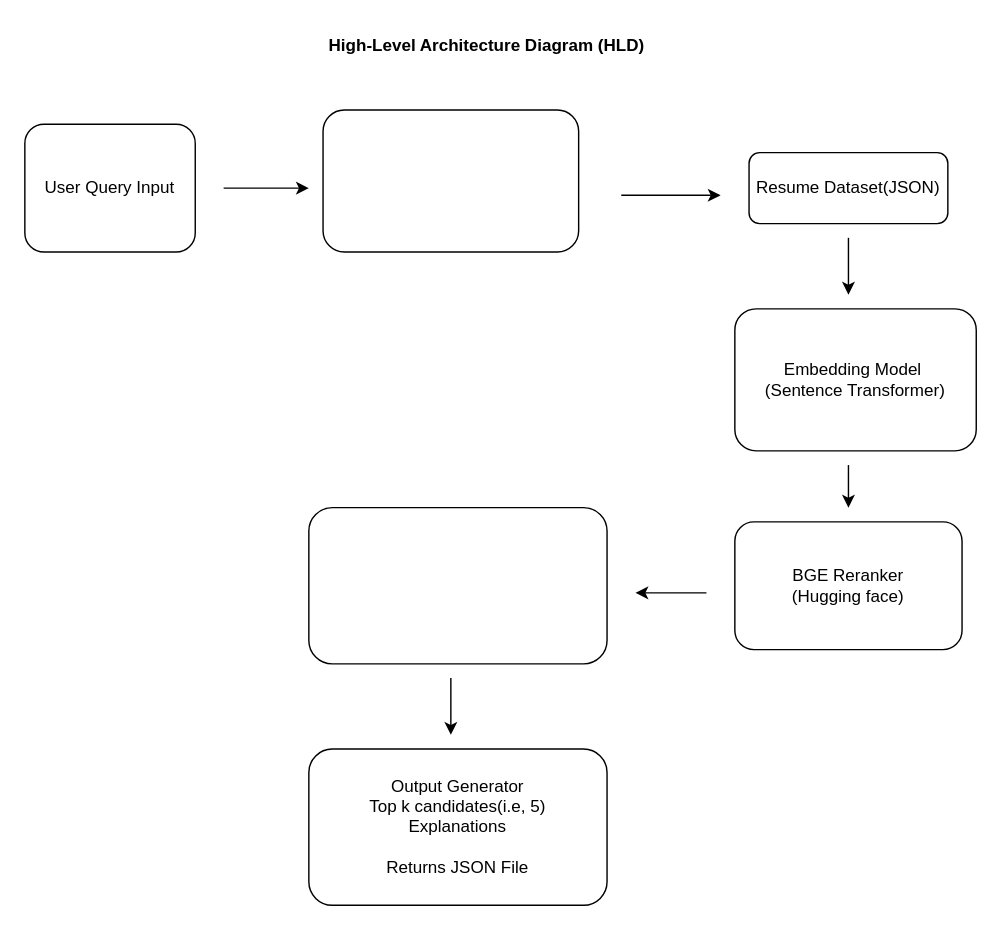
This 1001x930 diagram has some shape labels left out. The shapes that lost their labels are listed below. From the top down, each one's centre as x and y in pixels, then its label:
point 450,180: LLM Skill Extraction(Hugging Face API)
point 457,585: Scoring Engine Skill Match Summary Similarity Experience & Location Bonus
